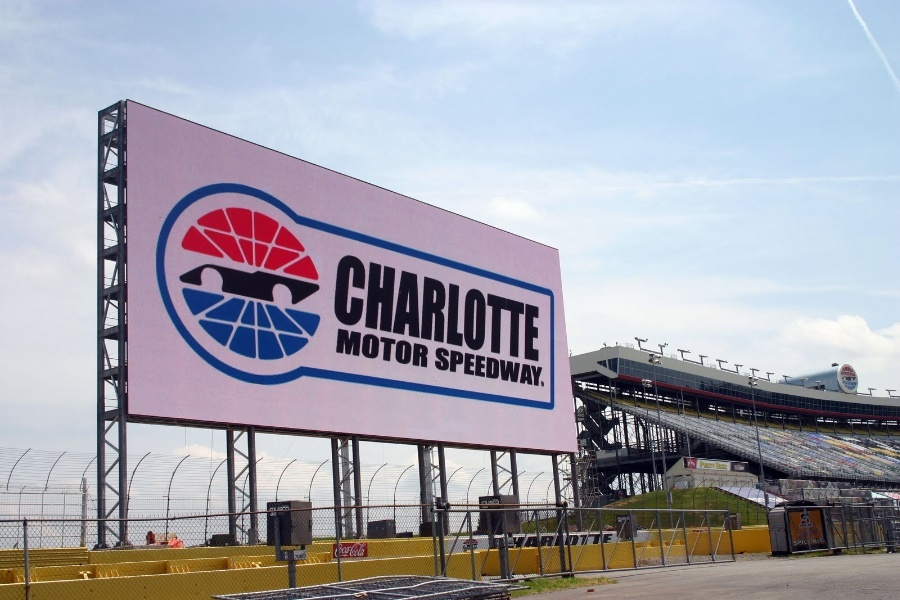text: (353, 252, 368, 363), (369, 252, 384, 363), (385, 252, 400, 363), (401, 252, 416, 363), (417, 252, 432, 363), (433, 252, 448, 363), (449, 252, 464, 363), (465, 252, 480, 363), (481, 252, 496, 363), (497, 252, 512, 363), (513, 252, 528, 363), (339, 252, 352, 363), (529, 252, 541, 363), (449, 346, 464, 389), (465, 346, 480, 389), (481, 346, 496, 389), (497, 346, 512, 389), (513, 346, 528, 389), (529, 346, 544, 389), (353, 328, 368, 369), (369, 328, 384, 369), (385, 328, 400, 369), (401, 328, 416, 369), (338, 328, 352, 369), (435, 346, 448, 389), (417, 328, 429, 369), (513, 532, 528, 549), (529, 532, 544, 549), (545, 532, 560, 549), (561, 532, 576, 549), (577, 532, 592, 549), (593, 532, 608, 549), (337, 543, 352, 558), (353, 543, 368, 558), (273, 505, 288, 518), (545, 346, 548, 389), (705, 461, 720, 469), (609, 532, 616, 549), (482, 499, 496, 507), (294, 553, 304, 559), (721, 461, 728, 469), (817, 538, 824, 544), (793, 539, 800, 545), (801, 539, 808, 545), (269, 505, 272, 518), (700, 461, 704, 469), (497, 499, 501, 507), (289, 505, 291, 518), (812, 538, 816, 544), (305, 553, 308, 559), (511, 532, 512, 549), (335, 543, 336, 558), (369, 543, 370, 558)
